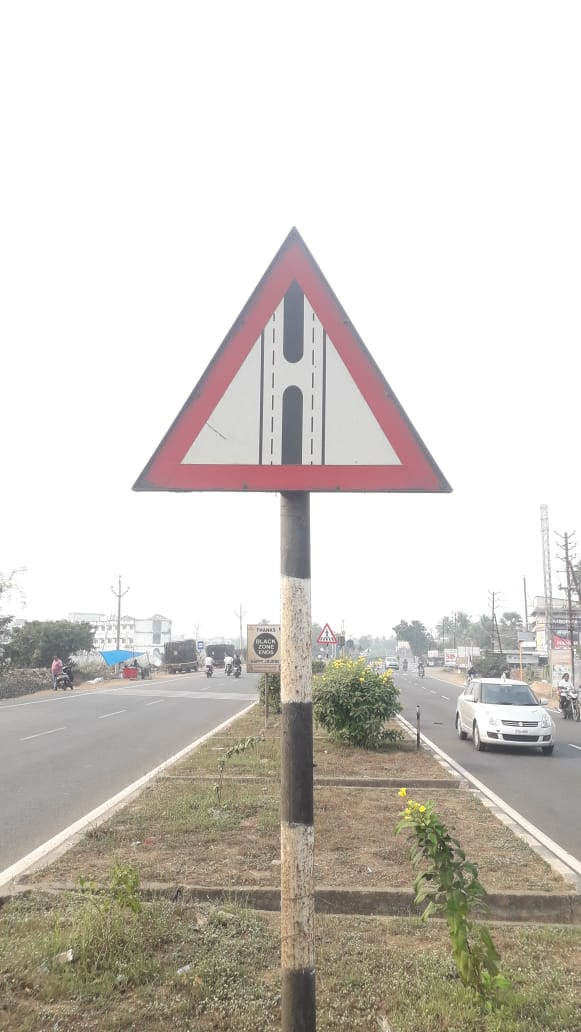highway go straight: (120, 215, 456, 526)
